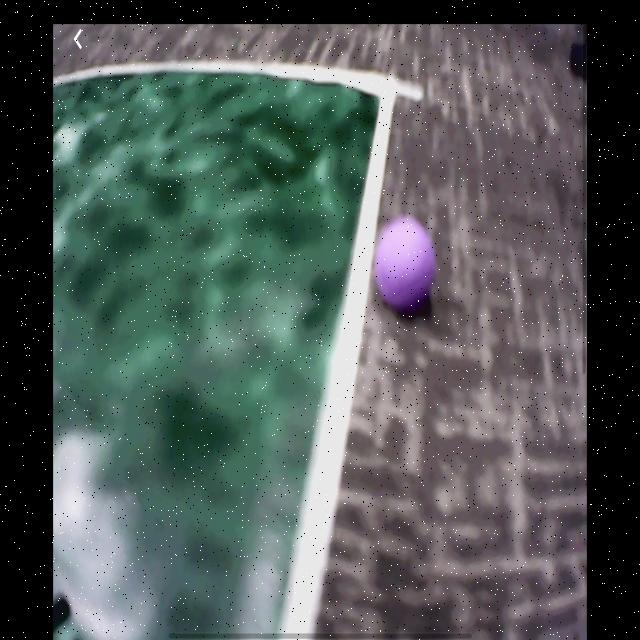ball: (374, 214, 438, 316)
